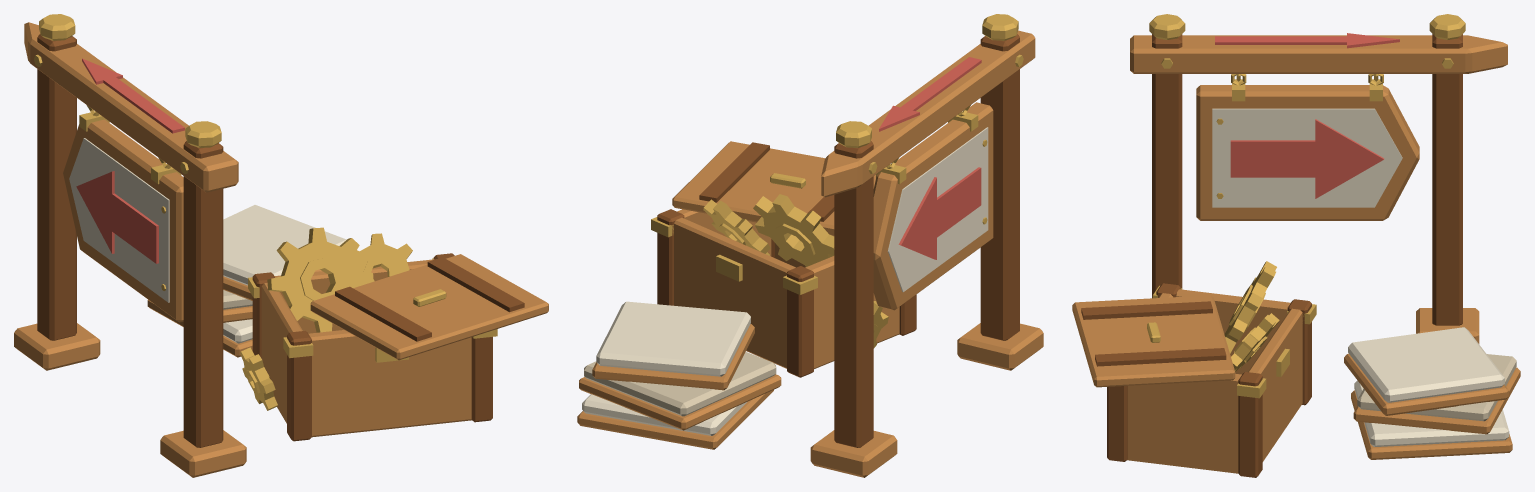
Rendered from chantier_extension.glb.
3 renders of one model, left to right at view 1: azimuth 30°, elevation 25°; view 2: azimuth 150°, elevation 25°; view 3: azimuth 270°, elevation 25°, orthographic. The views are drawn at different scales.
Parts seen in each view (by area): view 1: Caisse, Poteaux, Panneau, Dalles; view 2: Poteaux, Caisse, Dalles, Panneau; view 3: Caisse, Poteaux, Panneau, Dalles.
Boxes of the visible parts, box(x1,y1,x2,y2) form: Caisse: box(240, 227, 548, 441); Poteaux: box(14, 14, 246, 477); Panneau: box(63, 110, 183, 322); Dalles: box(147, 205, 346, 357); Poteaux: box(810, 14, 1043, 477); Caisse: box(651, 141, 916, 377); Dalles: box(577, 301, 781, 449); Panneau: box(873, 102, 993, 310); Caisse: box(1072, 261, 1316, 477); Poteaux: box(1130, 14, 1507, 343); Panneau: box(1196, 74, 1419, 220); Dalles: box(1344, 327, 1520, 459).
Bounding box in the file's own units: 1.41 × 1.33 × 1.69.
